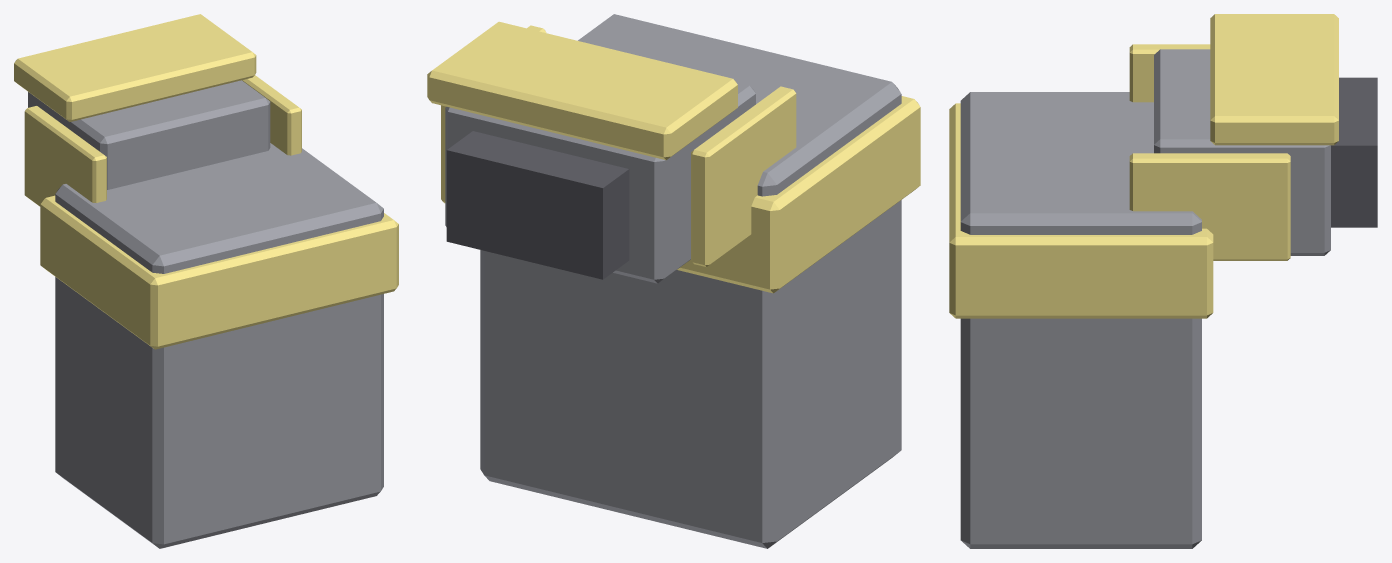
File: intake_01.glb
3 renders of one model, left to right at view 1: azimuth 30°, elevation 25°; view 2: azimuth 150°, elevation 25°; view 3: azimuth 270°, elevation 25°, orthographic. The views are drawn at different scales.
Visible parts, largest first — view 1: intake_01; view 2: intake_01; view 3: intake_01.
Boxes of the visible parts, left/top/right/bottom form: intake_01: left=14, top=14, right=398, bottom=548; intake_01: left=427, top=14, right=920, bottom=548; intake_01: left=949, top=14, right=1377, bottom=548.
Size of the model in its own units: 1.02 by 1.45 by 1.33.
